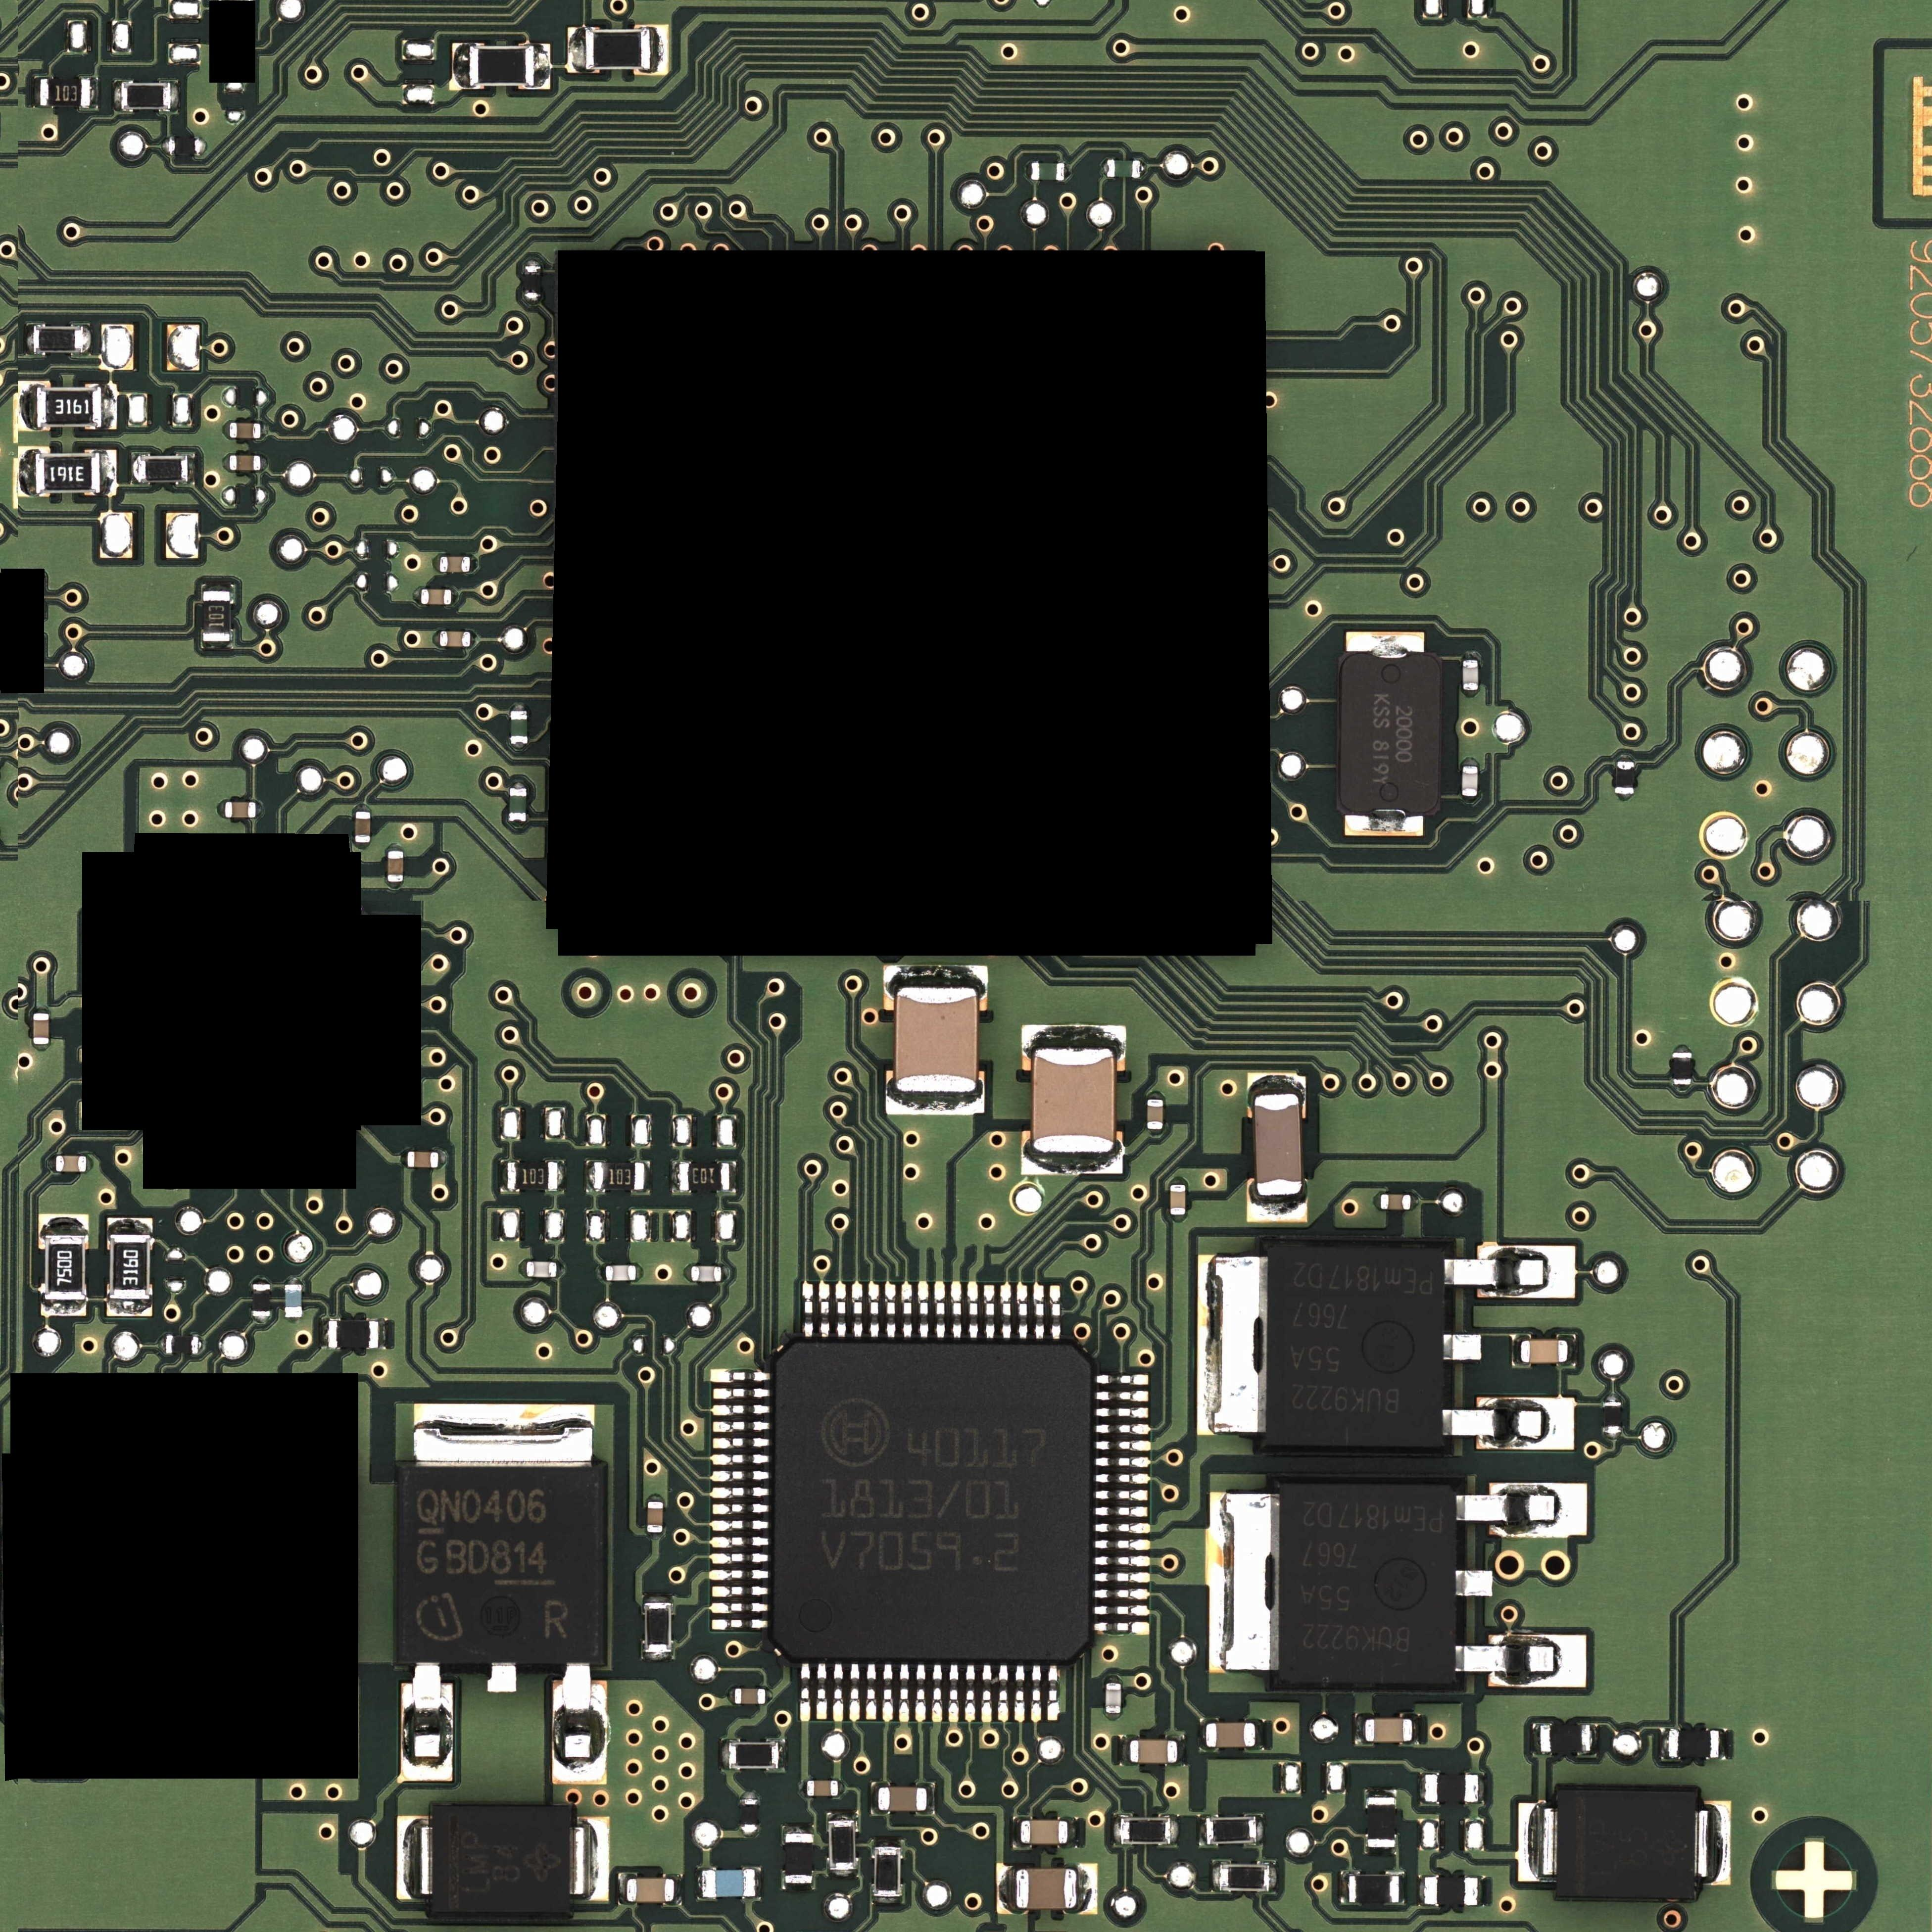Package: (775, 1343, 1089, 1660), (398, 1469, 603, 1662), (1268, 1247, 1442, 1448), (1281, 1484, 1454, 1685), (1340, 654, 1439, 812), (1558, 1790, 1694, 1898), (434, 1806, 569, 1913), (1033, 1048, 1115, 1153), (896, 988, 978, 1092), (1254, 1095, 1302, 1195), (44, 1236, 86, 1300), (35, 453, 100, 494), (37, 387, 101, 428), (109, 1235, 150, 1299), (585, 30, 651, 70), (469, 46, 534, 86), (1015, 1869, 1077, 1909), (1425, 1774, 1478, 1802), (1424, 1877, 1478, 1905), (1540, 1724, 1591, 1753), (702, 1870, 755, 1897), (328, 1320, 379, 1349), (1669, 1730, 1719, 1759), (1349, 1875, 1399, 1903), (507, 1162, 558, 1190), (678, 1163, 730, 1191), (1367, 1797, 1396, 1847), (594, 1163, 644, 1190), (785, 1834, 813, 1883), (40, 79, 90, 106), (203, 591, 230, 641), (728, 1742, 778, 1769), (138, 456, 188, 483), (1207, 1818, 1256, 1844), (829, 1821, 856, 1870), (33, 327, 83, 352), (1121, 1818, 1170, 1844), (1220, 1865, 1269, 1891), (122, 84, 171, 109), (645, 1603, 671, 1652), (875, 1847, 900, 1896), (1206, 1723, 1256, 1747), (878, 1787, 927, 1811), (1130, 1739, 1177, 1764), (1020, 1820, 1068, 1844), (627, 1878, 674, 1902), (1365, 1718, 1412, 1742), (1521, 1340, 1567, 1363), (1672, 1052, 1692, 1085), (165, 1336, 198, 1354), (1616, 762, 1635, 794), (1107, 160, 1141, 178), (509, 788, 527, 821), (510, 711, 528, 744), (1031, 163, 1064, 180), (253, 1284, 270, 1317), (285, 1284, 302, 1317), (741, 1799, 758, 1831), (1604, 1402, 1622, 1433), (524, 266, 541, 298), (169, 138, 200, 155), (807, 1780, 838, 1796), (225, 802, 256, 818), (55, 1156, 86, 1172), (355, 812, 371, 843), (387, 851, 403, 882), (230, 423, 260, 438), (407, 1152, 438, 1167), (33, 1014, 49, 1044), (440, 631, 470, 647), (421, 589, 451, 605), (647, 1502, 663, 1532), (735, 1689, 765, 1704), (230, 455, 260, 471), (527, 1261, 556, 1277), (1462, 766, 1478, 796), (1106, 1683, 1121, 1713), (1147, 1100, 1163, 1129), (440, 557, 470, 572), (1463, 660, 1478, 690), (1380, 1194, 1410, 1209), (606, 1265, 635, 1281), (691, 1266, 721, 1281), (1170, 1185, 1186, 1215)
Solder: (1197, 1256, 1267, 1436), (1210, 1492, 1281, 1670), (414, 1403, 595, 1469), (1443, 1246, 1575, 1299), (1454, 1635, 1587, 1688), (1443, 1397, 1574, 1449), (1454, 1483, 1587, 1535), (552, 1662, 607, 1785), (401, 1662, 453, 1782), (569, 1816, 610, 1902), (1694, 1801, 1732, 1885), (1518, 1802, 1557, 1882), (396, 1816, 434, 1900), (1021, 1025, 1127, 1049), (883, 965, 988, 987), (1021, 1153, 1123, 1174), (886, 1093, 984, 1112), (1345, 813, 1424, 836), (1346, 631, 1424, 653), (1249, 1196, 1307, 1220), (1247, 1075, 1306, 1094), (39, 1214, 90, 1235), (1077, 1863, 1097, 1915), (1443, 1333, 1481, 1360), (1454, 1570, 1493, 1596), (997, 1866, 1015, 1915), (651, 25, 669, 75), (487, 1662, 516, 1692), (106, 1300, 153, 1317), (711, 1369, 771, 1382), (568, 27, 585, 73), (452, 43, 469, 90), (1093, 1621, 1150, 1635), (107, 1217, 153, 1234), (100, 449, 117, 496), (101, 384, 117, 430), (41, 1301, 87, 1316), (534, 44, 550, 90), (712, 1437, 771, 1449), (712, 1569, 770, 1581), (1047, 1665, 1060, 1720), (934, 1283, 946, 1340), (950, 1283, 962, 1340), (1094, 1440, 1150, 1451), (713, 1404, 771, 1416), (711, 1602, 770, 1614), (712, 1553, 770, 1564), (712, 1537, 770, 1548), (712, 1487, 771, 1498), (1092, 1588, 1148, 1600), (1093, 1555, 1149, 1567), (1093, 1539, 1149, 1550), (1093, 1522, 1149, 1534), (713, 1421, 771, 1432), (713, 1388, 771, 1399), (712, 1454, 770, 1465), (712, 1503, 770, 1515), (1000, 1285, 1012, 1340), (1033, 1285, 1045, 1340), (1049, 1285, 1061, 1341), (832, 1663, 844, 1721), (931, 1664, 943, 1721), (819, 1284, 830, 1339), (983, 1285, 995, 1340), (1094, 1423, 1149, 1435), (1093, 1489, 1148, 1501), (1093, 1505, 1148, 1517), (918, 1283, 929, 1339), (967, 1283, 978, 1340), (866, 1664, 877, 1720), (816, 1663, 827, 1720), (965, 1664, 976, 1721), (849, 1664, 860, 1720), (799, 1664, 811, 1720), (712, 1471, 771, 1482), (1095, 1390, 1149, 1402), (712, 1520, 770, 1531), (885, 1284, 896, 1339), (712, 1587, 770, 1597), (901, 1284, 913, 1339), (852, 1283, 863, 1338), (1016, 1285, 1028, 1340), (1094, 1473, 1149, 1484), (712, 1619, 769, 1630), (948, 1664, 959, 1721), (868, 1284, 879, 1339), (899, 1664, 910, 1721), (981, 1664, 992, 1721), (882, 1664, 893, 1720), (915, 1664, 926, 1720), (998, 1665, 1009, 1721), (802, 1284, 814, 1338), (1095, 1407, 1149, 1418), (1093, 1572, 1149, 1583), (1014, 1665, 1025, 1721), (1031, 1665, 1042, 1720), (1092, 1605, 1148, 1616), (835, 1283, 846, 1338), (1094, 1456, 1149, 1467), (1095, 1374, 1149, 1385), (1119, 1735, 1130, 1766), (1068, 1817, 1078, 1848), (1355, 1714, 1365, 1745), (24, 324, 33, 356), (1364, 1847, 1397, 1857), (1512, 1334, 1521, 1368), (83, 325, 92, 357), (618, 1873, 627, 1904), (379, 1318, 388, 1349), (927, 1782, 936, 1815), (642, 1652, 675, 1661), (1012, 1816, 1021, 1849), (1255, 1719, 1264, 1750), (782, 1825, 815, 1834), (871, 1838, 904, 1847), (170, 81, 179, 112), (1211, 1860, 1220, 1891), (1340, 1871, 1349, 1904), (31, 76, 40, 107), (642, 1594, 674, 1603), (870, 1782, 878, 1814), (1365, 1788, 1396, 1797), (112, 80, 121, 112), (130, 452, 138, 484), (826, 1812, 859, 1820), (871, 1896, 904, 1905), (1568, 1334, 1576, 1366), (1177, 1735, 1186, 1765), (827, 1870, 859, 1878), (1269, 1861, 1278, 1893), (1532, 1723, 1541, 1755), (1198, 1815, 1207, 1846), (1412, 1714, 1420, 1745), (1660, 1728, 1669, 1759), (499, 1159, 507, 1192), (674, 1874, 682, 1905), (721, 1739, 729, 1770), (1112, 1814, 1121, 1845), (201, 641, 233, 649), (188, 453, 195, 485), (1256, 1814, 1264, 1846), (1590, 1724, 1598, 1756), (201, 583, 235, 591), (1170, 1816, 1179, 1845), (1478, 1876, 1486, 1907), (1199, 1720, 1207, 1750), (91, 77, 98, 109), (672, 1161, 679, 1193), (755, 1868, 762, 1900), (586, 1161, 593, 1192), (781, 1883, 815, 1890), (1478, 1773, 1486, 1804), (1719, 1729, 1727, 1760), (321, 1317, 328, 1350), (558, 1160, 565, 1193), (1418, 1773, 1425, 1804), (1417, 1875, 1424, 1906), (729, 1161, 736, 1192), (696, 1868, 702, 1900), (1399, 1872, 1405, 1904), (644, 1161, 650, 1193), (779, 1739, 785, 1771), (524, 298, 541, 307), (557, 1261, 565, 1278), (519, 1260, 527, 1277), (1147, 1091, 1163, 1100), (413, 589, 422, 605), (1105, 1674, 1121, 1683), (387, 843, 404, 851), (1461, 758, 1479, 766), (509, 781, 528, 788), (256, 801, 264, 818), (1604, 1432, 1621, 1440), (740, 1792, 759, 1799), (200, 139, 209, 154), (261, 423, 268, 440), (223, 422, 230, 439), (470, 555, 478, 573), (218, 801, 225, 818), (647, 1495, 664, 1502), (1604, 1394, 1621, 1401), (284, 1317, 303, 1324), (598, 1265, 606, 1281), (223, 455, 230, 472), (260, 455, 268, 472), (432, 556, 440, 572), (471, 631, 478, 647), (722, 1265, 729, 1282), (635, 1264, 643, 1281), (1148, 1129, 1164, 1137), (523, 260, 542, 266), (509, 703, 528, 710), (1615, 794, 1634, 800), (508, 822, 529, 828), (159, 1336, 166, 1353), (1617, 755, 1634, 762), (433, 631, 440, 647), (451, 589, 459, 605), (438, 1152, 446, 1167), (510, 744, 530, 750), (1373, 1194, 1381, 1209), (49, 1155, 56, 1172), (728, 1688, 735, 1704), (1462, 797, 1479, 804), (1462, 690, 1479, 697), (284, 1278, 303, 1284), (647, 1532, 663, 1539), (386, 882, 404, 888), (766, 1688, 772, 1705), (252, 1317, 271, 1323), (1673, 1085, 1691, 1091), (801, 1780, 807, 1797), (1025, 162, 1031, 180), (1462, 653, 1480, 659), (33, 1007, 49, 1014), (33, 1044, 49, 1051), (86, 1156, 93, 1172), (354, 842, 372, 848), (162, 138, 169, 154), (401, 1151, 407, 1167), (252, 1278, 271, 1284), (199, 1337, 205, 1352), (685, 1265, 691, 1281), (1170, 1215, 1186, 1221), (1170, 1178, 1186, 1185), (839, 1780, 845, 1796), (1065, 163, 1071, 179), (1105, 1713, 1121, 1719), (1674, 1046, 1690, 1052), (354, 806, 372, 811), (1410, 1194, 1416, 1209), (741, 1831, 758, 1836), (1141, 161, 1146, 177), (1102, 159, 1107, 176)
